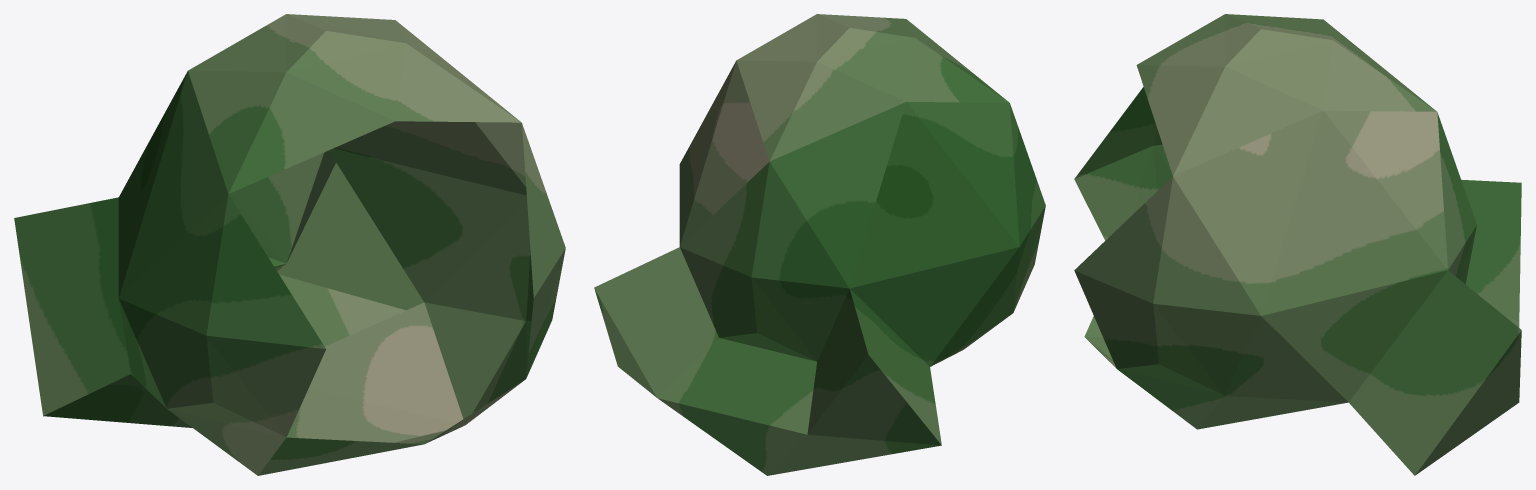
Rendered from MegaWummaDestructionPart2.fbx.
3 views of the same model, side by side, from view 1: azimuth 30°, elevation 25°; view 2: azimuth 150°, elevation 25°; view 3: azimuth 270°, elevation 25° (orthographic). The views are drawn at different scales.
Visible parts, largest first — view 1: TetraSphere; view 2: TetraSphere; view 3: TetraSphere.
Part boxes in pixels (bbox=[...]): TetraSphere: bbox=[14, 14, 565, 475]; TetraSphere: bbox=[594, 14, 1045, 475]; TetraSphere: bbox=[1074, 14, 1521, 475].
Bounding box in the file's own units: 8 × 8.72 × 8.29.
1 material, 1 textured.
